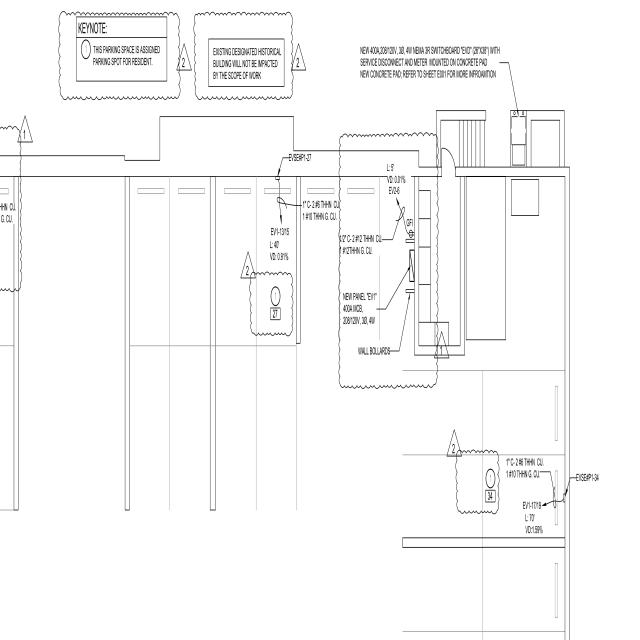gfi: (408, 228, 414, 239)
panel: (407, 246, 416, 285)
